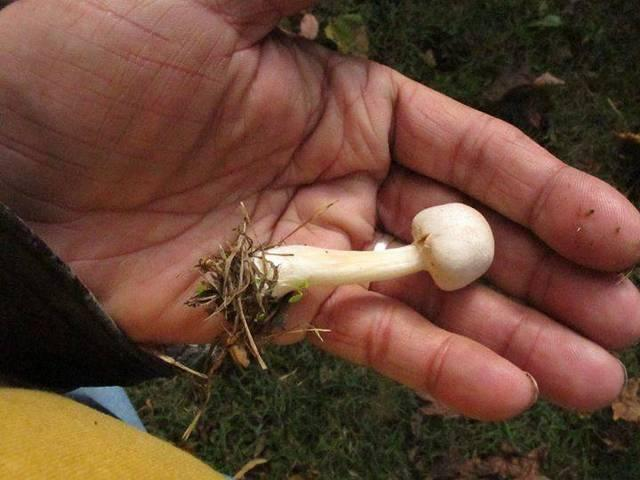Non-edible Mushroom: (245, 200, 496, 302)
